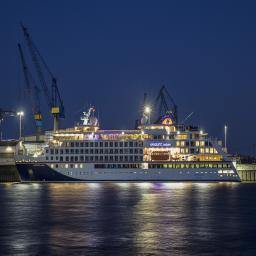cruises: (11, 106, 245, 185)
